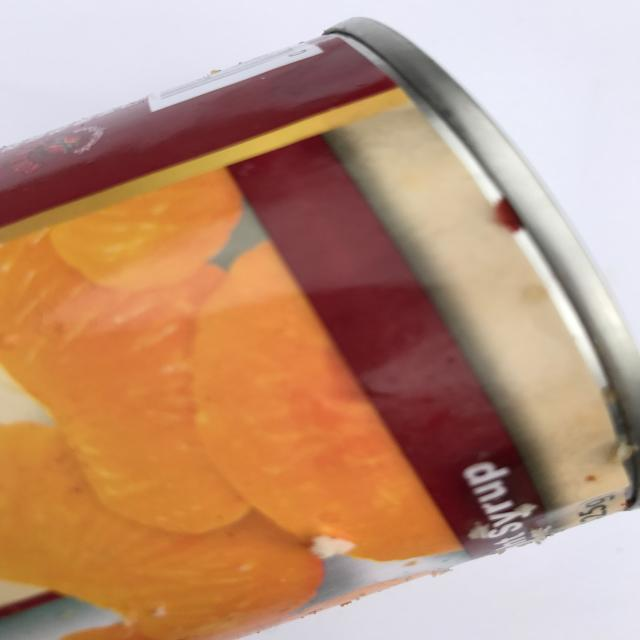metal: (0, 15, 640, 639)
